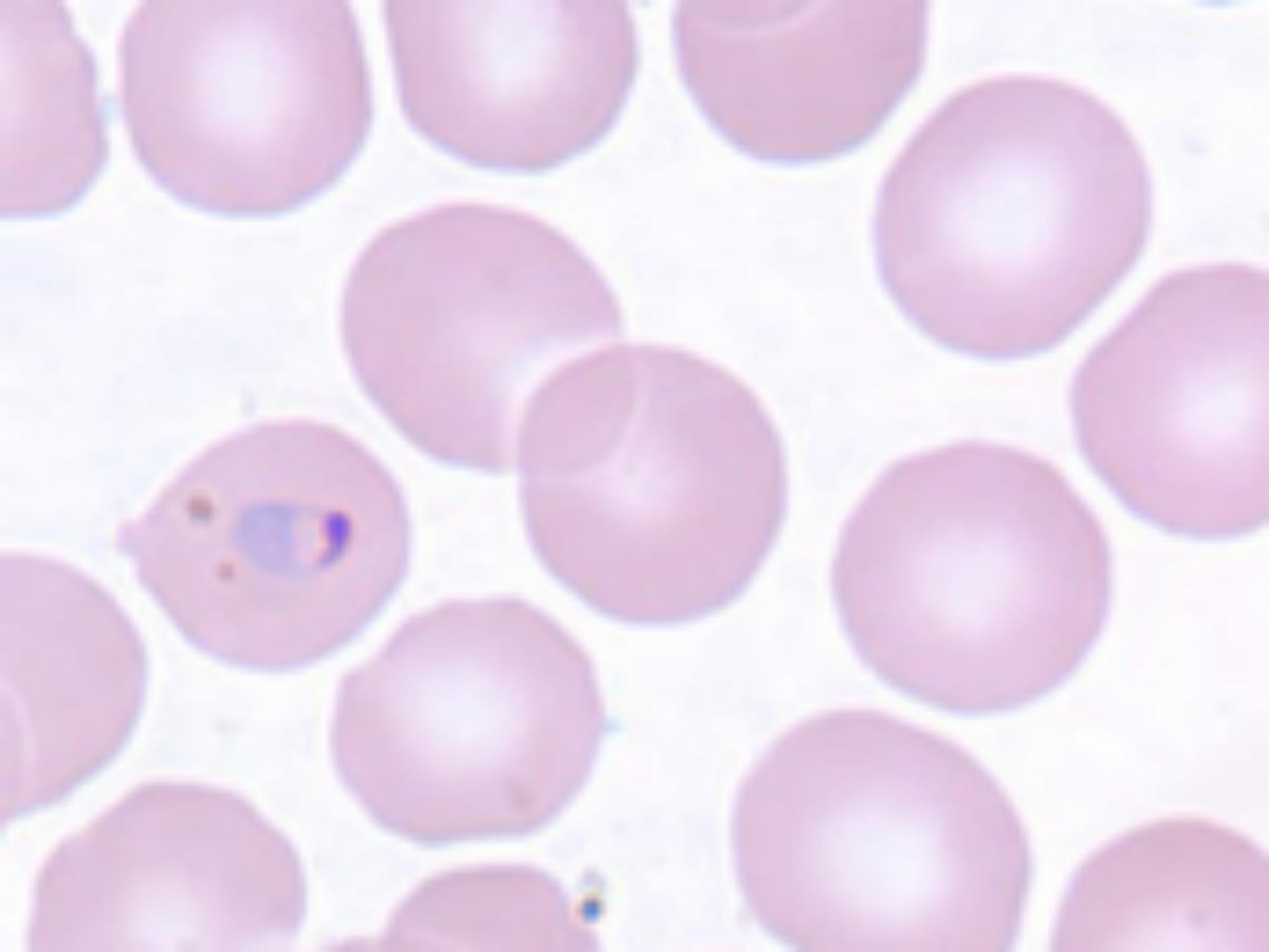Infected: (124, 415, 403, 672)
Uninfected: (512, 342, 791, 626), (339, 207, 636, 471), (876, 75, 1147, 360), (838, 437, 1110, 706), (732, 713, 1030, 952), (329, 589, 605, 846), (119, 3, 376, 217), (1069, 265, 1269, 536), (23, 780, 305, 952), (387, 0, 639, 177), (671, 0, 926, 164), (0, 551, 154, 819)
